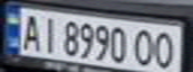0: (109, 24, 130, 64)
8: (57, 18, 81, 57)
9: (90, 21, 112, 62), (75, 20, 96, 60)
A: (18, 11, 45, 52)
I: (36, 14, 60, 53)
O: (151, 29, 181, 70), (130, 27, 160, 68)
